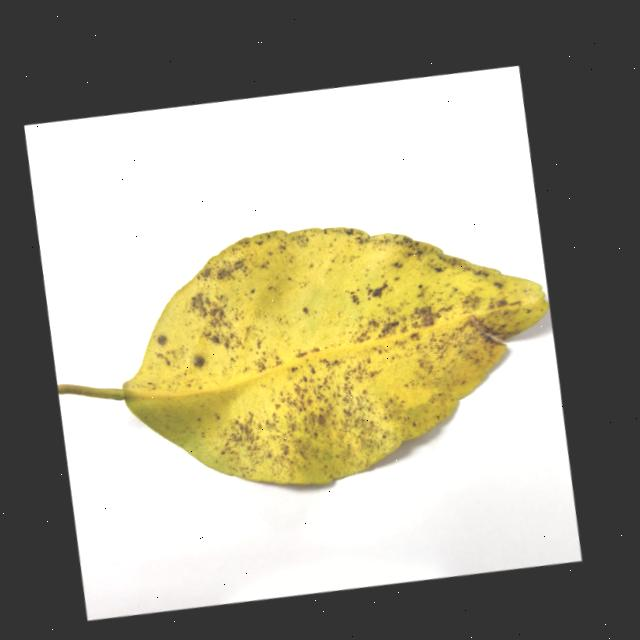melanose: (83, 227, 545, 484)
